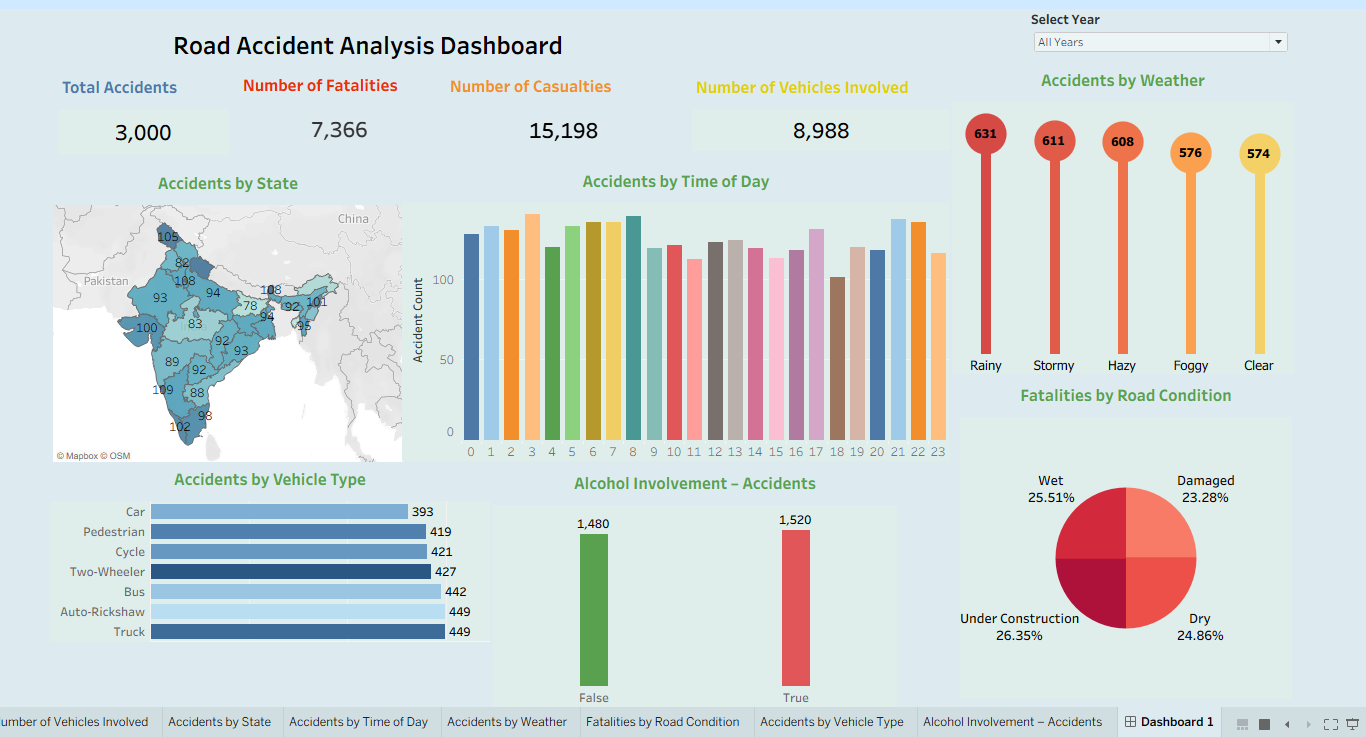

What the dashboard file says about the page in this screenshot:
{"tool":"tableau","page":{"name":"Dashboard 1","canvas":[1000,1000],"units":"permille","ordinal":0},"visuals":[{"type":"parameter","param":"[Parameters].[Parameter 2]","box":[777.5,1.9,206.9,89]},{"type":"text","box":[6.9,15.2,986.1,76.7]},{"type":"worksheet","title":"Accidents by Weather","mark":"Bar","rows":["Calculation_0122631105867776","Calculation_0122631105867776"],"cols":["Weather Conditions"],"box":[714.7,80.7,272.5,442.2]},{"type":"worksheet","title":"Number of Fatalities","mark":"Automatic","box":[146.3,87.1,161,119.3]},{"type":"worksheet","title":"Number of Casualties","mark":"Automatic","box":[311.7,89,188.7,115.5]},{"type":"worksheet","title":"Total Accidents","mark":"Text","box":[2.6,90.9,135.9,119.3]},{"type":"worksheet","title":"Number of Vehicles Involved","mark":"Automatic","box":[507.4,90.9,206.1,113.6]},{"type":"text","box":[6.9,91.9,986.1,893]},{"type":"worksheet","title":"Accidents by Time of Day","mark":"Bar","rows":["Calculation_0122631105867776"],"cols":["Time of Day"],"box":[276.2,225.4,436.4,422.4]},{"type":"worksheet","title":"Fatalities by Road Condition","mark":"Pie","box":[721.2,532.2,264.9,456.4]},{"type":"worksheet","title":"Alcohol Involvement – Accidents","mark":"Bar","rows":["Calculation_0122631105867776"],"cols":["Alcohol Involvement"],"box":[348.9,657.2,322.1,342.8]}]}

Visuals, with their boxes on the dashboard's canvas, which has no fixed pixel size, in thousandths of its width and height (x1, y1, x2, y2). These are canvas units, not pixel positions in the 1366x737 screenshot, which may show the page scaled, cropped or inside an application window:
parameter: 778,2,984,91
text: 7,15,993,92
"Accidents by Weather" worksheet (Bar marks): 715,81,987,523
"Number of Fatalities" worksheet: 146,87,307,206
"Number of Casualties" worksheet: 312,89,500,204
"Total Accidents" worksheet (Text marks): 3,91,138,210
"Number of Vehicles Involved" worksheet: 507,91,714,204
text: 7,92,993,985
"Accidents by Time of Day" worksheet (Bar marks): 276,225,713,648
"Fatalities by Road Condition" worksheet (Pie marks): 721,532,986,989
"Alcohol Involvement – Accidents" worksheet (Bar marks): 349,657,671,1000
